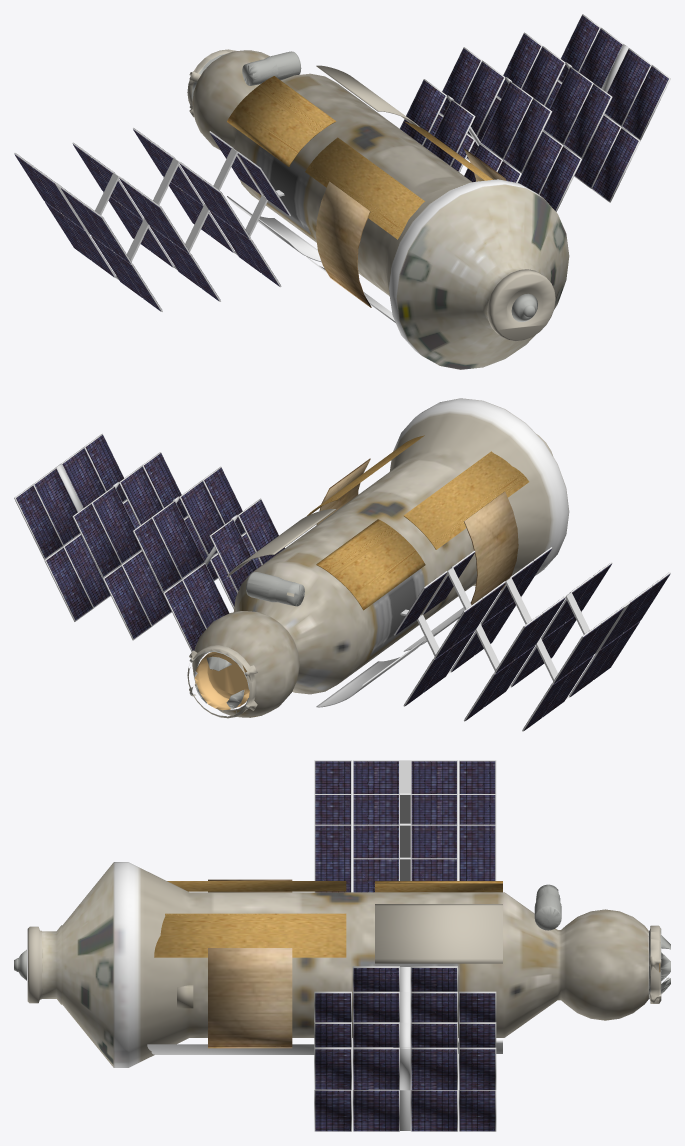
File: satellite3.gltf
3 renders of one model, top to bottom at view 1: azimuth 30°, elevation 25°; view 2: azimuth 150°, elevation 25°; view 3: azimuth 270°, elevation 25°, orthographic. The views are drawn at different scales.
Parts seen in each view (by area): view 1: Z_UP; view 2: Z_UP; view 3: Z_UP.
Boxes of the visible parts, box(x1,y1,x2,y2) form: Z_UP: box(14, 14, 670, 369); Z_UP: box(14, 398, 670, 731); Z_UP: box(14, 760, 670, 1131).
Size of the model in its own units: 16.52 by 5 by 15.91.
19 materials, 10 textured.
